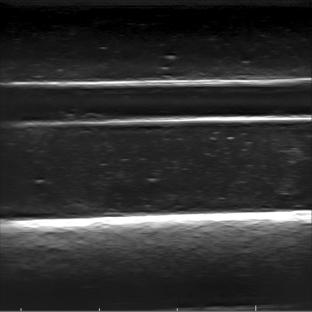vessel: (3, 76, 308, 128)
